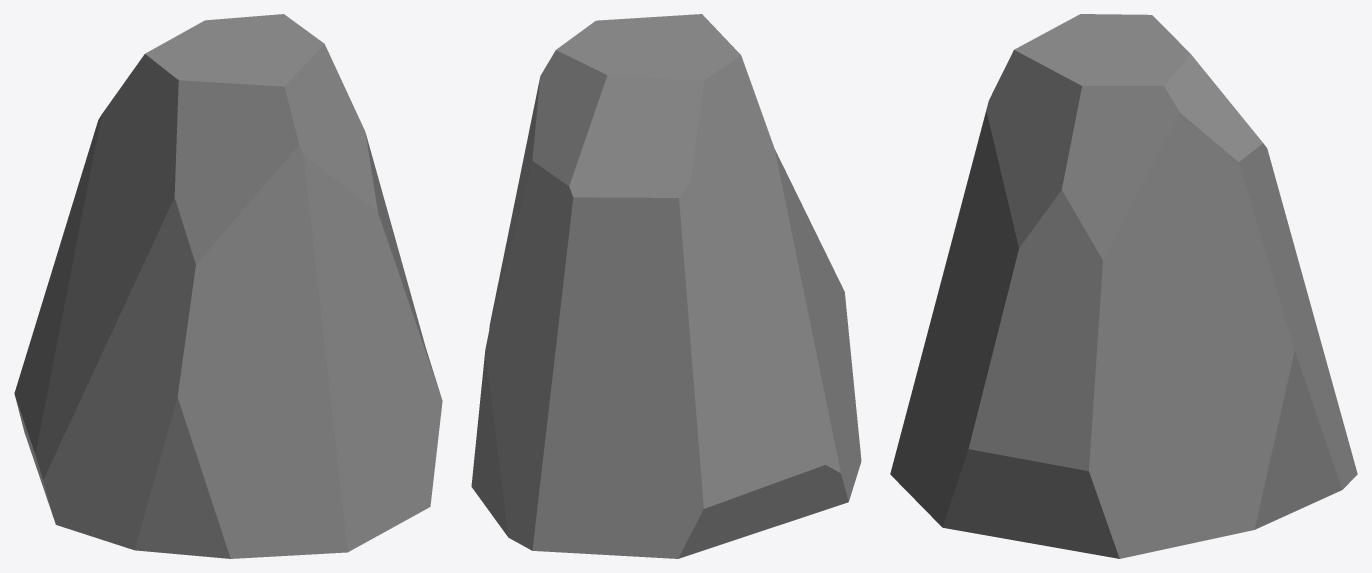
The model's file is HardRock_22.fbx.
3 views of the same model, side by side, from view 1: azimuth 30°, elevation 25°; view 2: azimuth 150°, elevation 25°; view 3: azimuth 270°, elevation 25° (orthographic). The views are drawn at different scales.
Visible parts, largest first — view 1: HardRock_22; view 2: HardRock_22; view 3: HardRock_22.
Boxes of the visible parts, bbox=[...] form: HardRock_22: bbox=[14, 14, 442, 558]; HardRock_22: bbox=[471, 14, 861, 558]; HardRock_22: bbox=[890, 14, 1357, 558].
Size of the model in its own units: 85.9 by 93.48 by 93.48.
